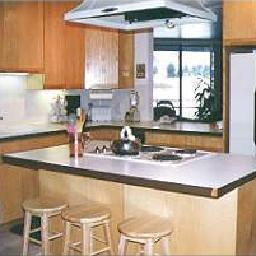Electrodomestico: (93, 140, 210, 169)
